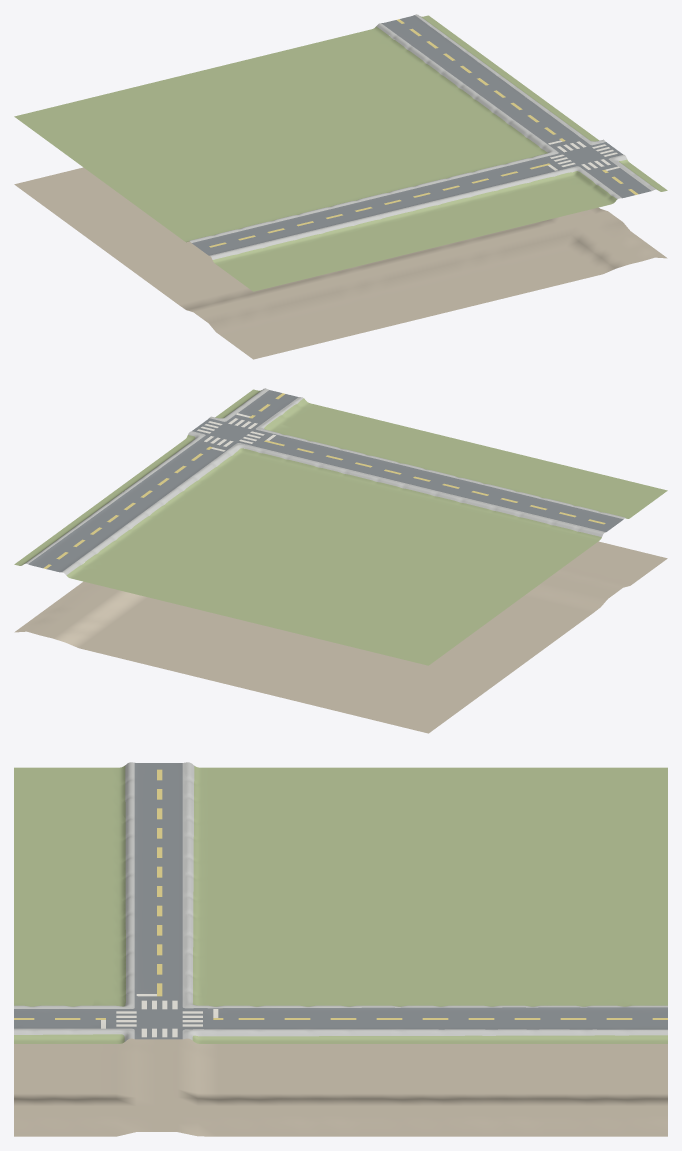
The picture shows the model from 3 angles, top to bottom: view 1: azimuth 30°, elevation 25°; view 2: azimuth 150°, elevation 25°; view 3: azimuth 270°, elevation 25°; orthographic projection. The views are drawn at different scales.
Visible parts, largest first — view 1: s_-11_-5__grass, s_-11_-5__soil, s_-11_-5__asphalt, s_-11_-5__stone_paving, s_-11_-5__yellow_marking, s_-11_-5__white_marking; view 2: s_-11_-5__grass, s_-11_-5__soil, s_-11_-5__asphalt, s_-11_-5__stone_paving, s_-11_-5__yellow_marking, s_-11_-5__white_marking; view 3: s_-11_-5__grass, s_-11_-5__soil, s_-11_-5__asphalt, s_-11_-5__stone_paving, s_-11_-5__yellow_marking, s_-11_-5__white_marking.
Part boxes in pixels (x1,y1,x2,y2): s_-11_-5__grass: (14, 15, 667, 291); s_-11_-5__soil: (14, 167, 667, 359); s_-11_-5__asphalt: (192, 15, 651, 255); s_-11_-5__stone_paving: (189, 14, 656, 259); s_-11_-5__yellow_marking: (209, 19, 638, 247); s_-11_-5__white_marking: (548, 140, 619, 170); s_-11_-5__grass: (14, 389, 667, 665); s_-11_-5__soil: (14, 541, 667, 733); s_-11_-5__asphalt: (28, 390, 623, 572); s_-11_-5__stone_paving: (25, 388, 624, 575); s_-11_-5__yellow_marking: (43, 393, 605, 568); s_-11_-5__white_marking: (197, 413, 275, 451); s_-11_-5__grass: (14, 765, 667, 1043); s_-11_-5__soil: (14, 1008, 667, 1136); s_-11_-5__asphalt: (14, 763, 667, 1039); s_-11_-5__stone_paving: (14, 762, 667, 1041); s_-11_-5__yellow_marking: (14, 769, 667, 1019); s_-11_-5__white_marking: (101, 994, 218, 1037).
Bounding box in the file's own units: 128 × 21.25 × 128.
